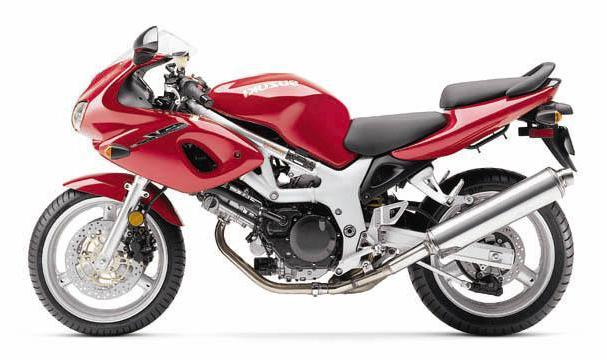motorcycle: (16, 23, 588, 354)
